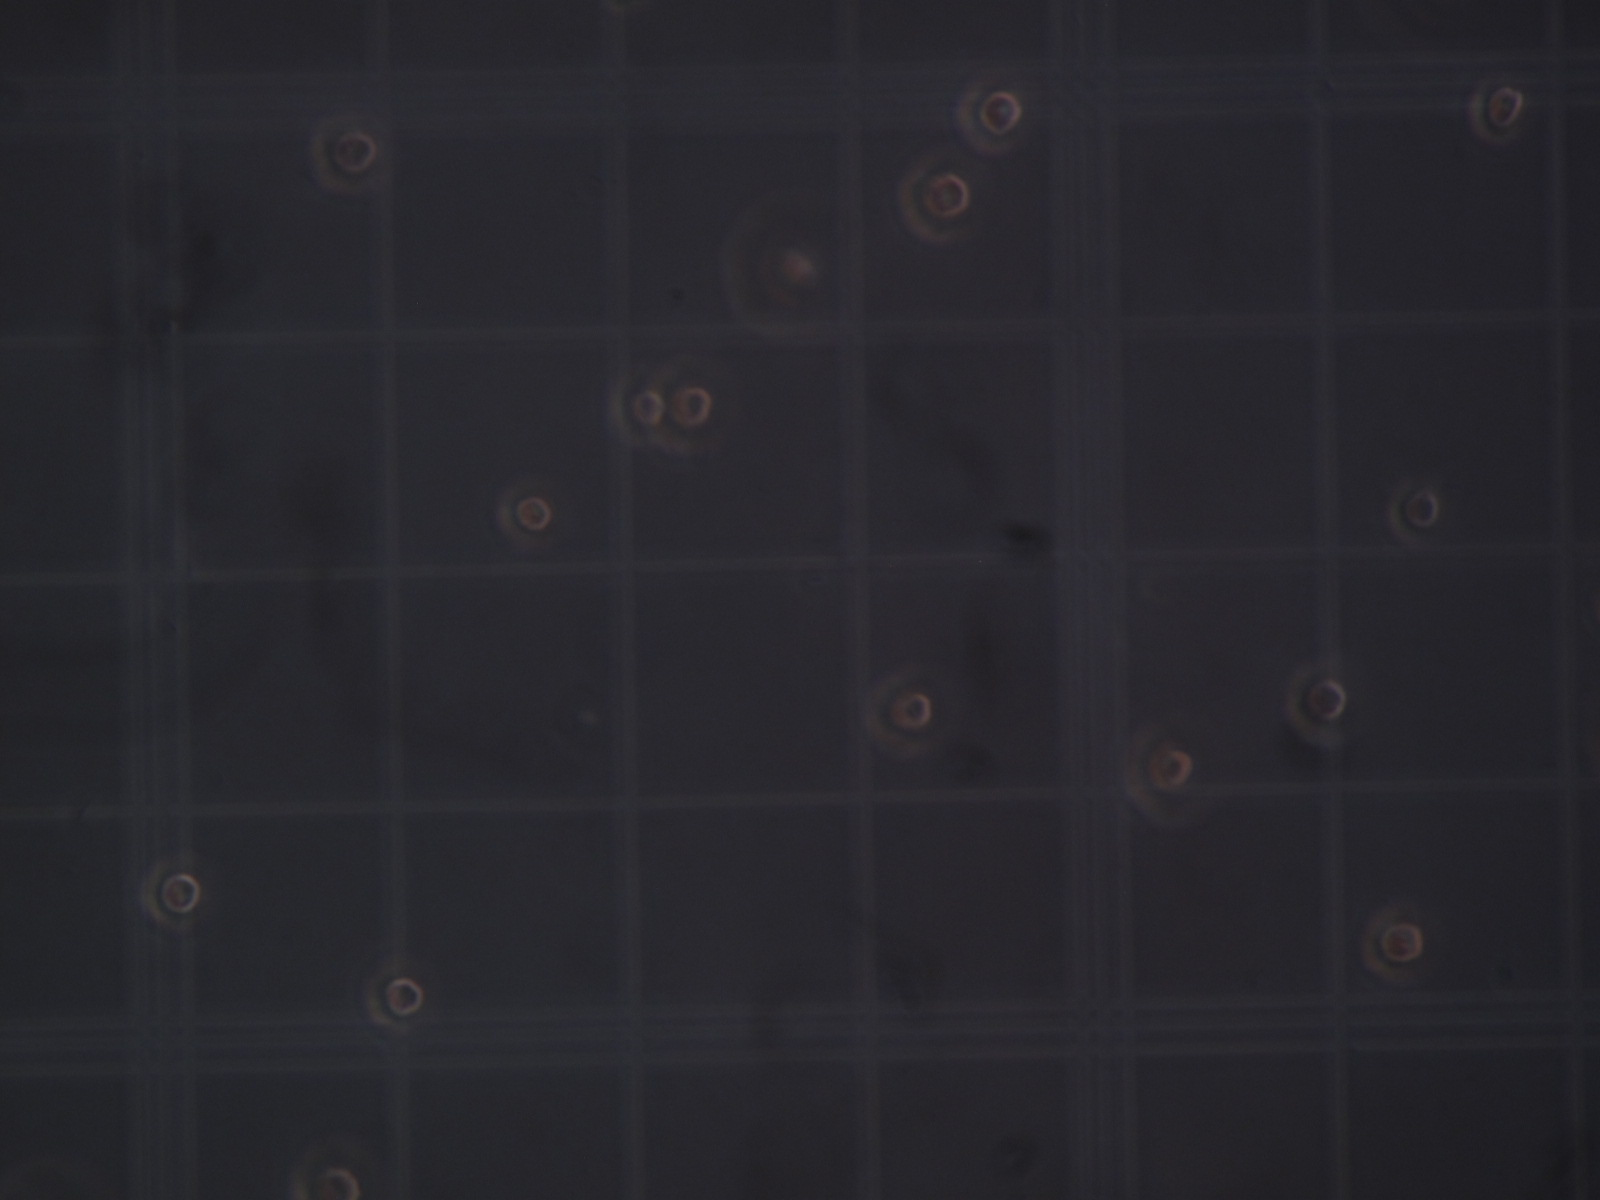hemo: (1123, 726, 1193, 824), (898, 163, 969, 245), (866, 672, 934, 755), (309, 117, 377, 195), (658, 363, 713, 455), (1284, 666, 1346, 746), (955, 84, 1022, 155), (607, 373, 666, 447), (140, 861, 202, 932), (363, 964, 425, 1034), (1362, 913, 1424, 982), (289, 1145, 363, 1200), (1468, 78, 1524, 145), (496, 485, 552, 548), (1387, 482, 1439, 546)
